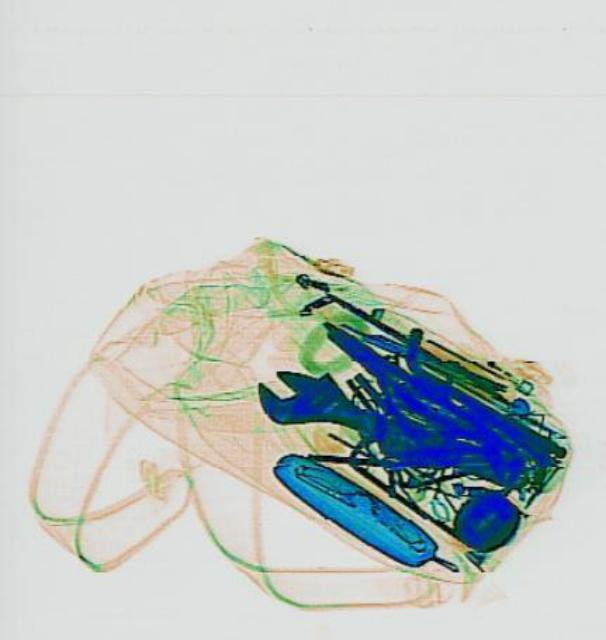Wrench: (246, 349, 536, 509)
